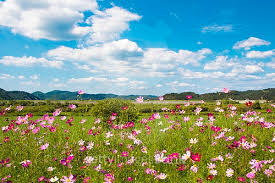flower: (11, 107, 275, 182)
sky: (3, 1, 267, 93)
